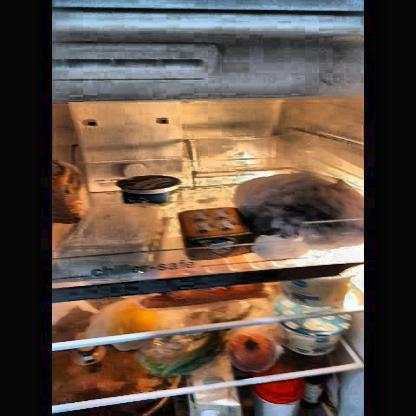butter: (176, 208, 249, 252)
carrot: (144, 286, 267, 300)
cheese: (71, 212, 152, 256)
green_chillies: (146, 337, 242, 370)
lemon: (113, 304, 160, 338)
milk: (193, 370, 240, 416)
tomato: (232, 336, 278, 367)
yoghurt: (289, 317, 346, 353), (121, 175, 180, 207), (282, 277, 352, 302)
